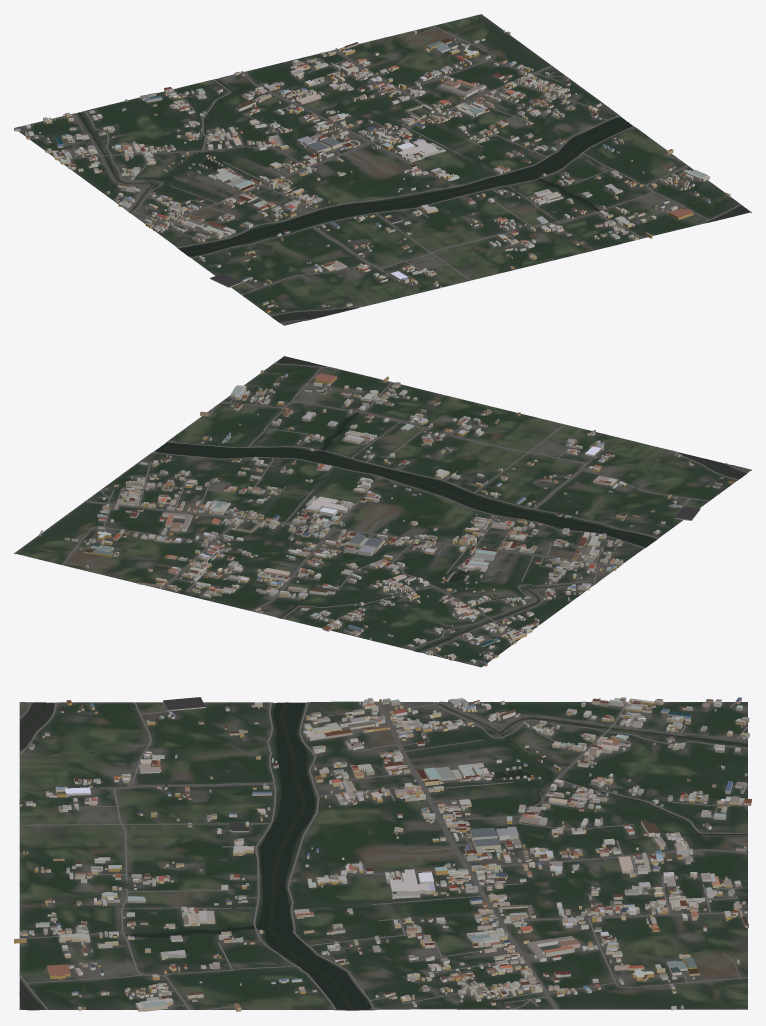
The picture shows the model from 3 angles, top to bottom: view 1: azimuth 30°, elevation 25°; view 2: azimuth 150°, elevation 25°; view 3: azimuth 270°, elevation 25°; orthographic projection. The views are drawn at different scales.
Visible parts, largest first — view 1: ground, buildings, roads, water; view 2: ground, buildings, roads, water; view 3: ground, buildings, water, roads.
Part boxes in pixels (x1,y1,x2,y2): ground: (14, 14, 751, 325); buildings: (14, 30, 730, 313); roads: (18, 25, 740, 322); water: (78, 79, 749, 322); ground: (14, 356, 751, 667); buildings: (39, 370, 734, 666); roads: (62, 355, 747, 661); water: (155, 356, 746, 651); ground: (19, 701, 747, 1010); buildings: (14, 697, 751, 1011); water: (19, 702, 747, 1010); roads: (19, 701, 748, 1009).
Bounding box in the file's own units: 1428 × 17.49 × 1419.
